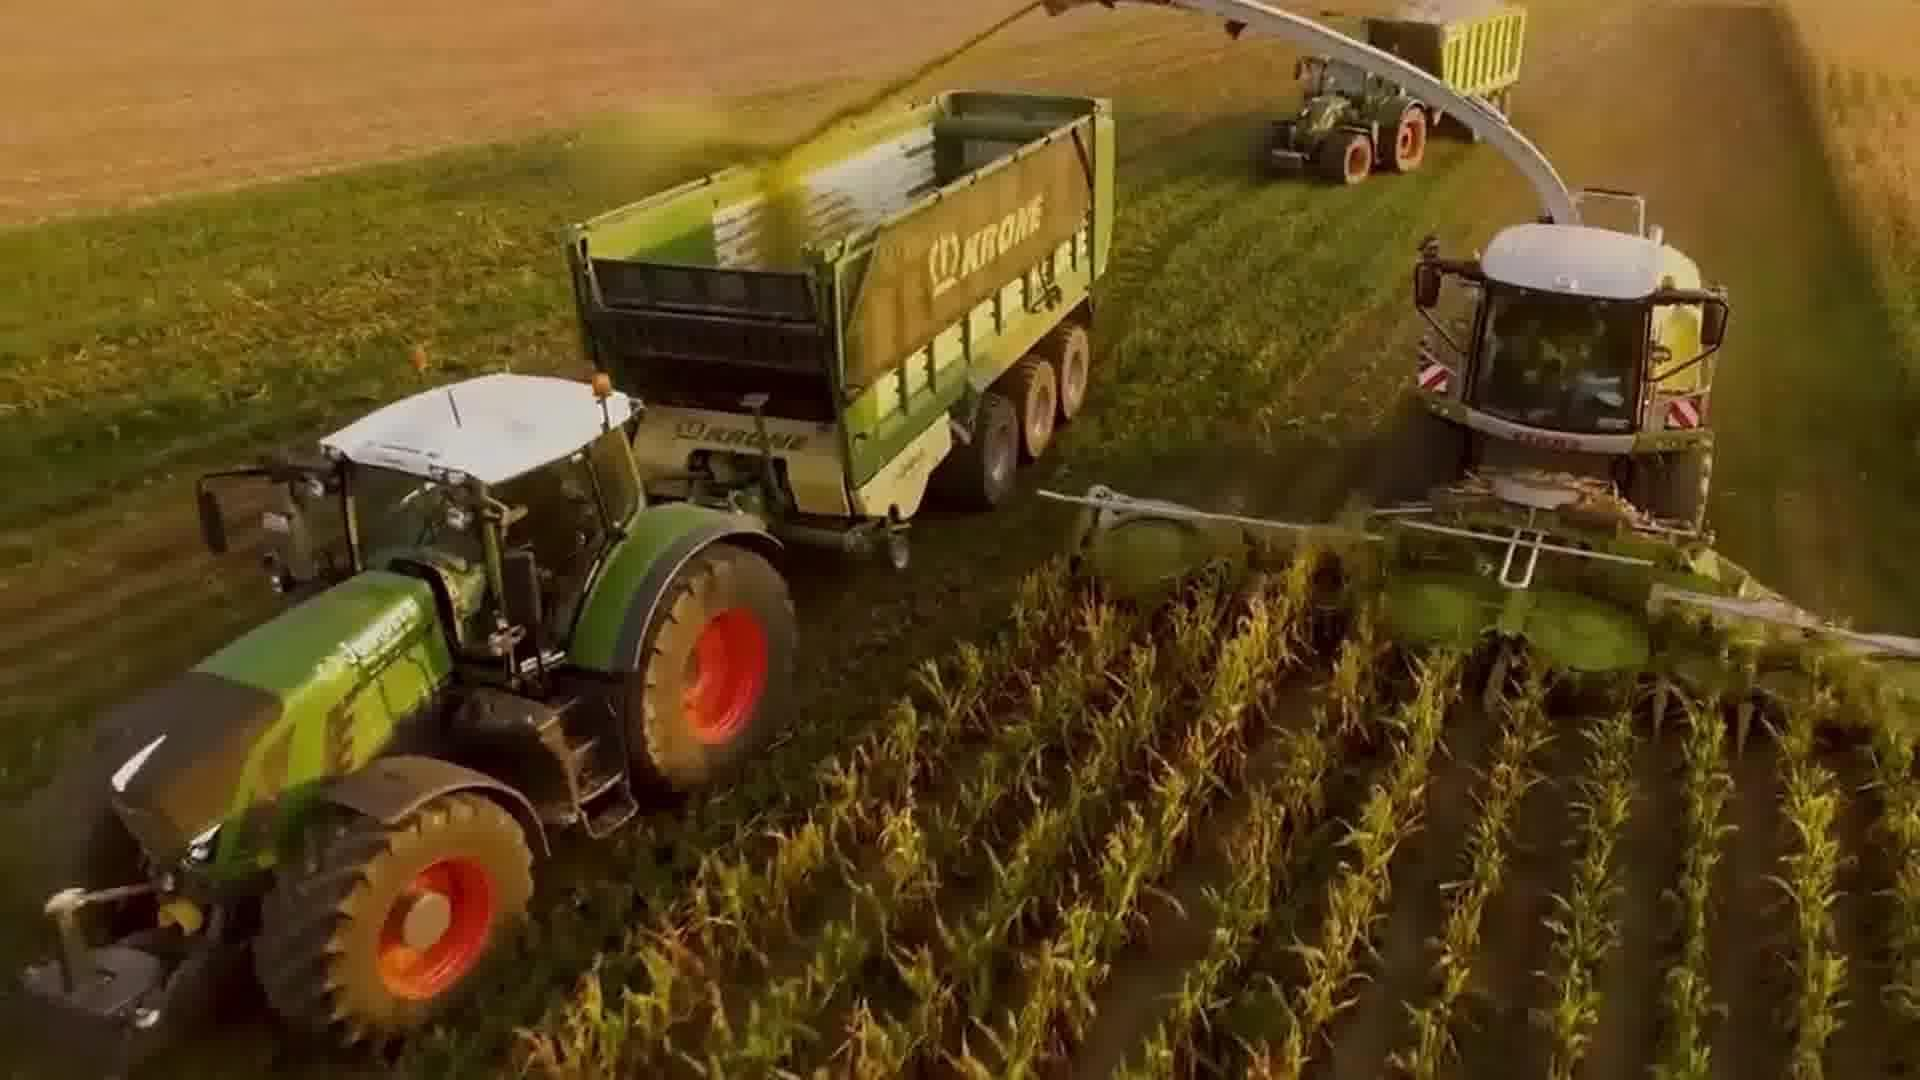combine harvester: (1038, 0, 1920, 761)
tractor: (8, 356, 806, 1043), (1246, 44, 1431, 193)
trailer: (554, 78, 1126, 551), (1352, 0, 1534, 141)
